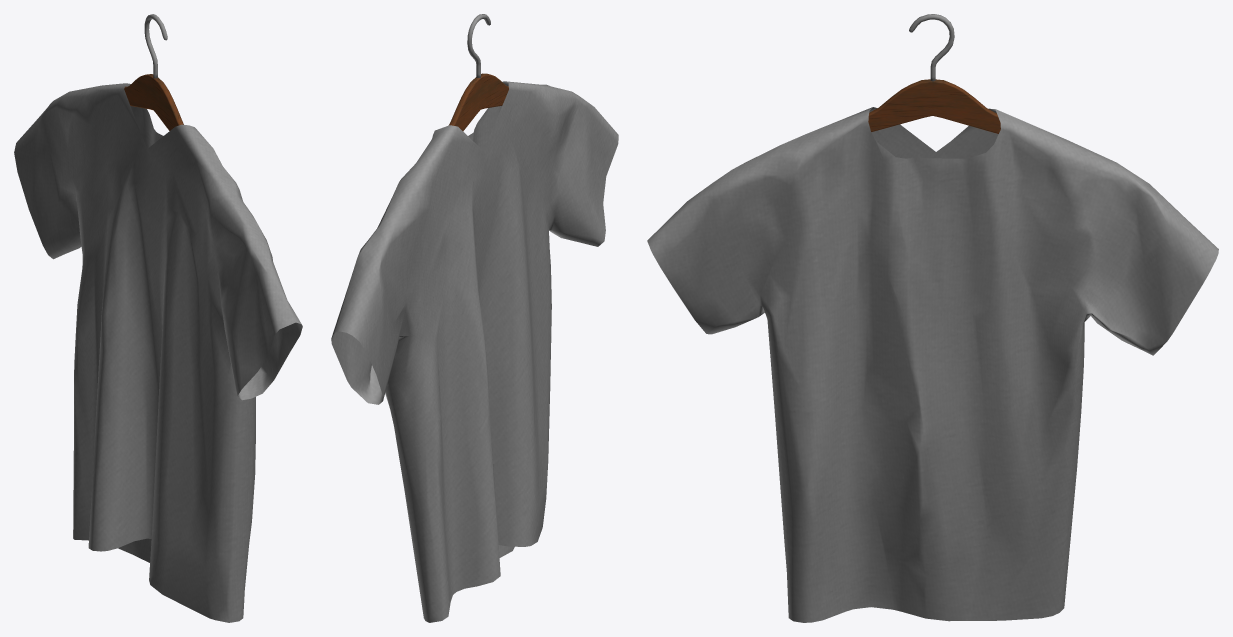
Rendered from SM_Cloth_B2.fbx.
The picture shows the model from 3 angles, left to right: view 1: azimuth 30°, elevation 25°; view 2: azimuth 150°, elevation 25°; view 3: azimuth 270°, elevation 25°; orthographic projection. The views are drawn at different scales.
Visible parts, largest first — view 1: SM_Cloth_B2; view 2: SM_Cloth_B2; view 3: SM_Cloth_B2.
Boxes of the visible parts, <box> form: SM_Cloth_B2: <box>14,14,302,622</box>; SM_Cloth_B2: <box>331,14,618,622</box>; SM_Cloth_B2: <box>647,14,1218,622</box>.
Size of the model in its own units: 13.69 by 78.67 by 91.44.
Materials: 2 (2 with a texture image).
